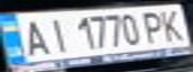0: (121, 11, 145, 46)
1: (69, 13, 93, 51)
7: (106, 11, 127, 47), (90, 12, 109, 48)
A: (15, 16, 54, 57)
I: (42, 15, 72, 54)
K: (157, 7, 190, 43)
P: (139, 8, 172, 44)
